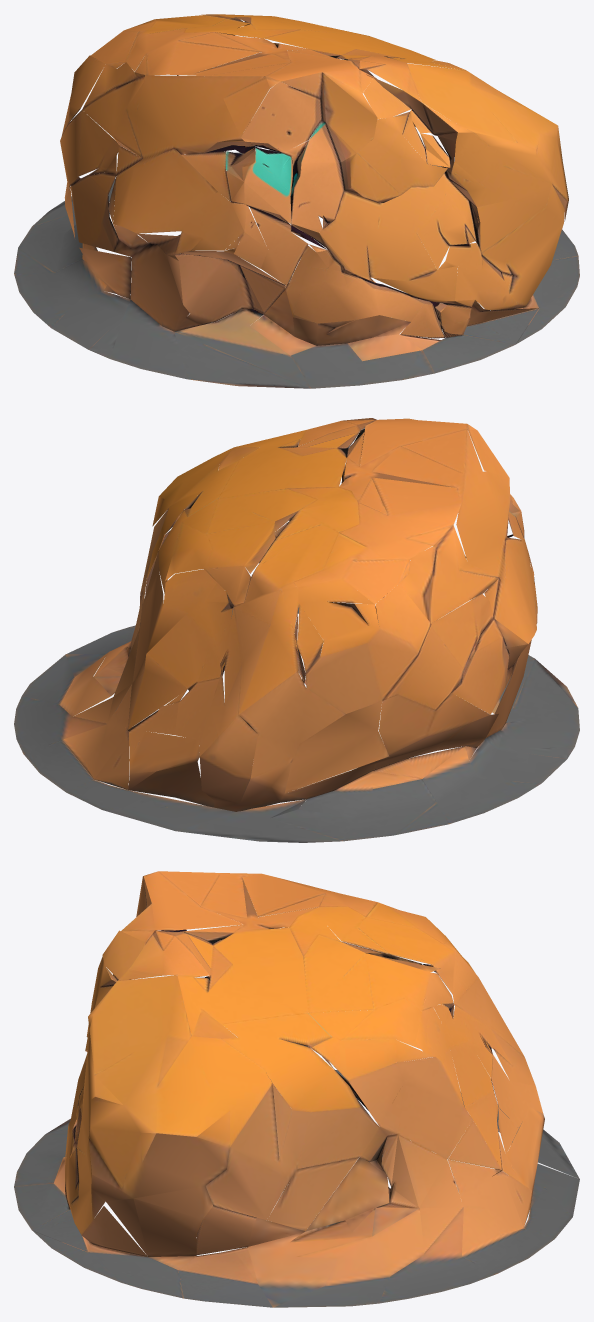
File: prop_boulder.glb
3 renders of one model, top to bottom at view 1: azimuth 30°, elevation 25°; view 2: azimuth 150°, elevation 25°; view 3: azimuth 270°, elevation 25°, orthographic.
Visible parts, largest first — view 1: body; view 2: body; view 3: body.
Boxes of the visible parts, <box> form: body: <box>14,14,579,388</box>; body: <box>14,418,579,842</box>; body: <box>14,871,579,1307</box>.
Size of the model in its own units: 3.78 by 2 by 3.78.
Materials: 1 (1 with a texture image).
